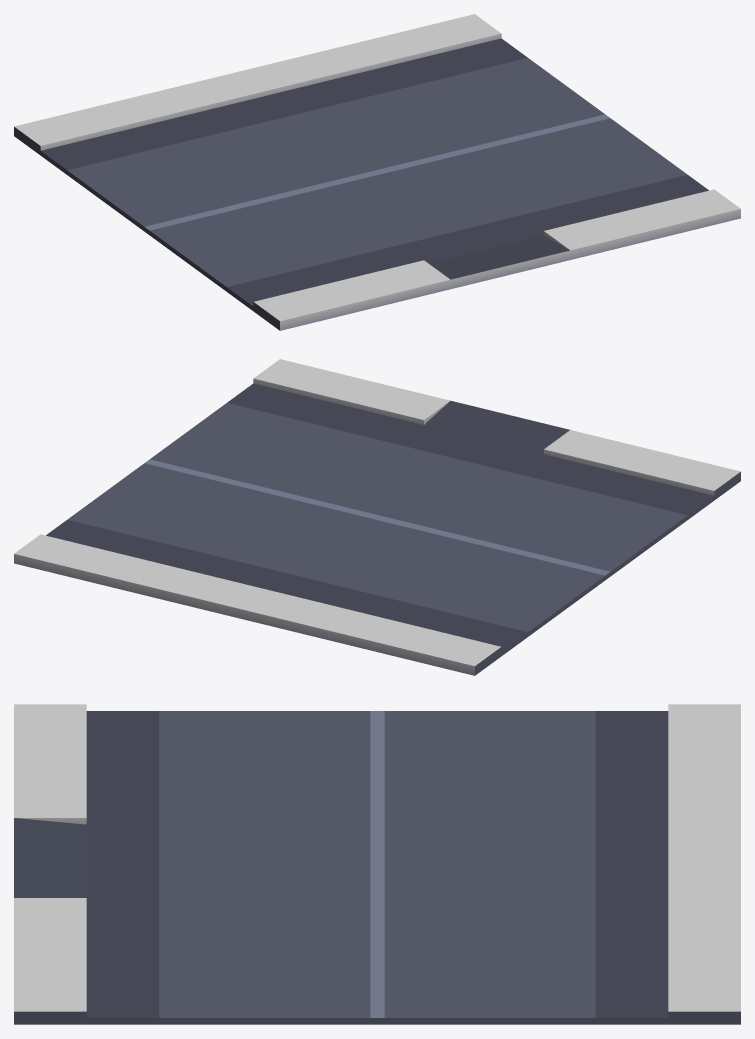
Rendered from road-driveway-single.glb.
3 renders of one model, top to bottom at view 1: azimuth 30°, elevation 25°; view 2: azimuth 150°, elevation 25°; view 3: azimuth 270°, elevation 25°, orthographic. The views are drawn at different scales.
Visible parts, largest first — view 1: road-driveway-single; view 2: road-driveway-single; view 3: road-driveway-single.
Part boxes in pixels (x1=…): road-driveway-single: x1=14, y1=14, x2=740, y2=330; road-driveway-single: x1=14, y1=359, x2=740, y2=675; road-driveway-single: x1=14, y1=704, x2=740, y2=1024.
Size of the model in its own units: 1 by 0.02 by 1.
